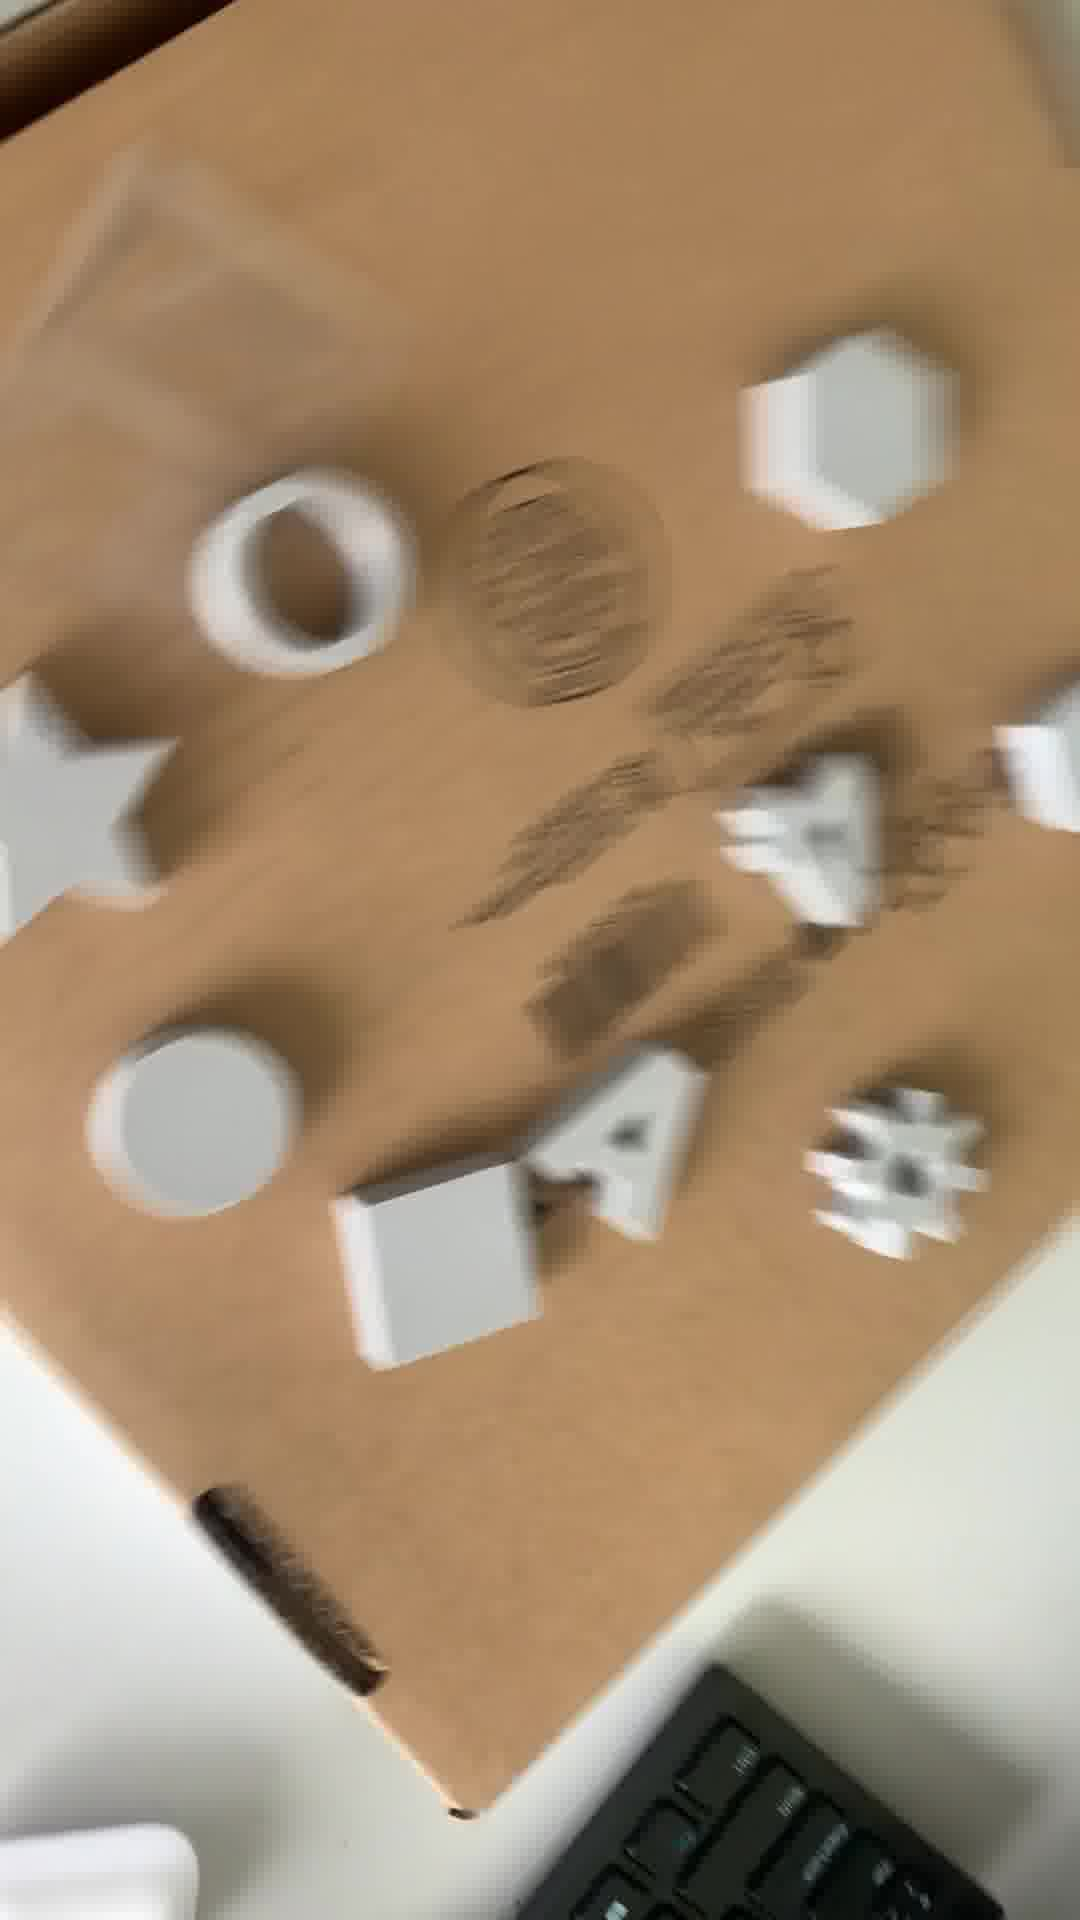Gray A-letter: (524, 1046, 713, 1238)
Gray circle: (86, 1011, 295, 1238)
Gray four: (713, 767, 914, 934)
Gray gear: (818, 1087, 967, 1266)
Gray hexagon: (717, 320, 967, 535)
Gray ring: (175, 475, 435, 671)
Gray square: (320, 1153, 543, 1371)
Gray star: (1, 663, 165, 953)
